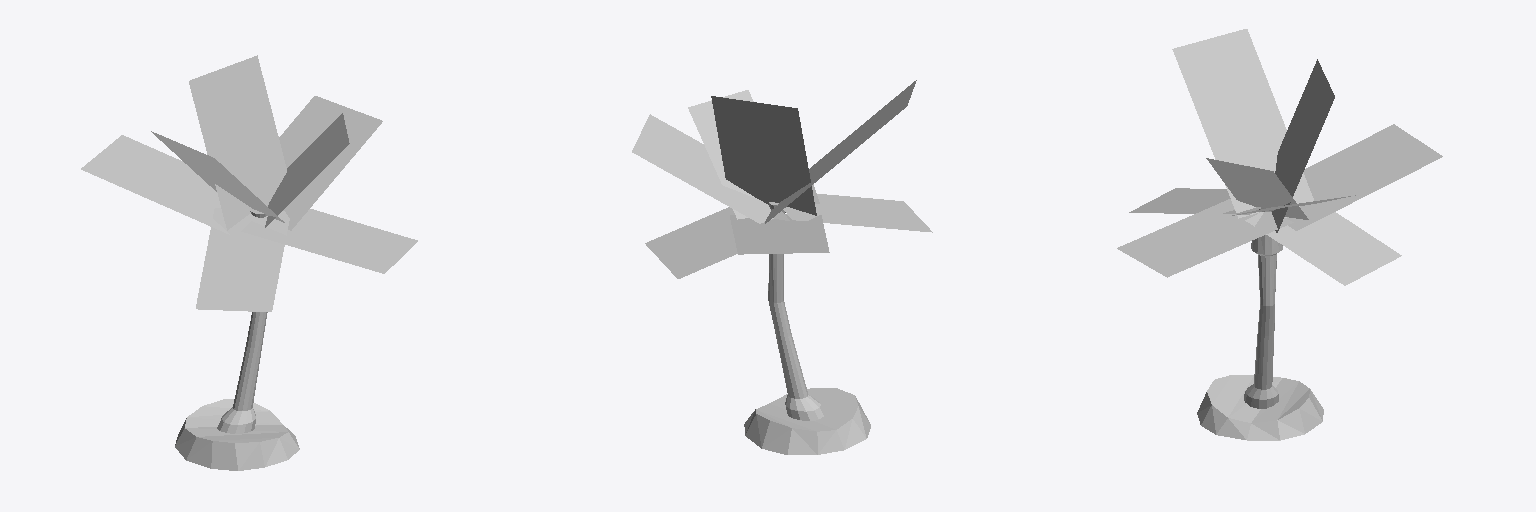
Rendered from palmtree.obj.
3 renders of one model, left to right at view 1: azimuth 30°, elevation 25°; view 2: azimuth 150°, elevation 25°; view 3: azimuth 270°, elevation 25°, orthographic.
Visible parts, largest first — view 1: palm_tree:group2_pasted__pPlane2; view 2: palm_tree:group2_pasted__pPlane2; view 3: palm_tree:group2_pasted__pPlane2.
Boxes of the visible parts, box(x1,y1,x2,y2) form: palm_tree:group2_pasted__pPlane2: box(81, 55, 417, 470); palm_tree:group2_pasted__pPlane2: box(632, 80, 932, 454); palm_tree:group2_pasted__pPlane2: box(1117, 29, 1442, 440).
Size of the model in its own units: 3.48 by 4.68 by 4.01.